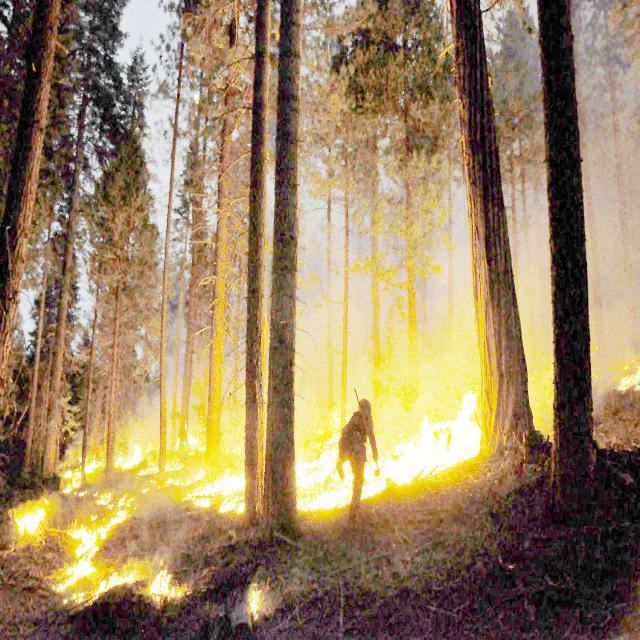api: (402, 388, 478, 482), (298, 449, 355, 517), (53, 531, 100, 593), (10, 492, 54, 543), (191, 475, 249, 511), (366, 456, 404, 500), (63, 458, 112, 491), (135, 569, 174, 607), (112, 439, 150, 477), (100, 501, 137, 533), (620, 352, 640, 403), (159, 458, 185, 497), (318, 418, 347, 449), (182, 426, 206, 455), (248, 586, 268, 617), (221, 436, 245, 457)
asap: (396, 287, 471, 406), (297, 287, 339, 431)
